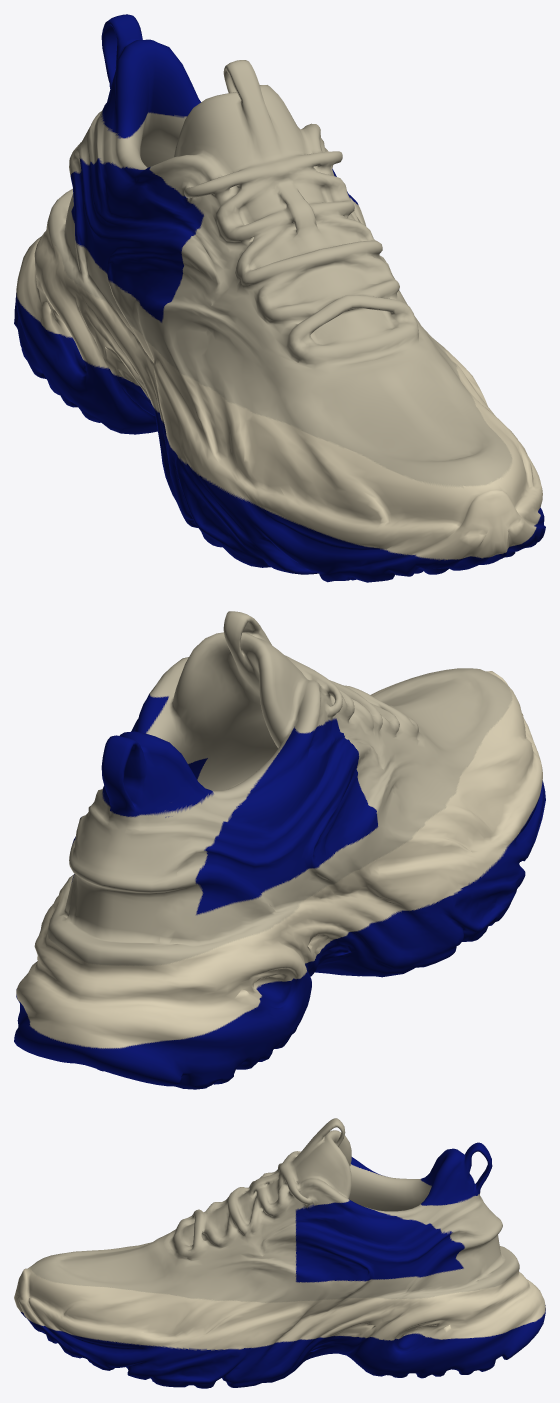
File: sneaker-refined.glb
The picture shows the model from 3 angles, top to bottom: view 1: azimuth 30°, elevation 25°; view 2: azimuth 150°, elevation 25°; view 3: azimuth 270°, elevation 25°; orthographic projection. The views are drawn at different scales.
Visible parts, largest first — view 1: Sneaker | Original Hyper3D geometry; view 2: Sneaker | Original Hyper3D geometry; view 3: Sneaker | Original Hyper3D geometry.
Boxes of the visible parts, <box> form: Sneaker | Original Hyper3D geometry: <box>14,14,545,582</box>; Sneaker | Original Hyper3D geometry: <box>14,611,545,1089</box>; Sneaker | Original Hyper3D geometry: <box>14,1118,545,1388</box>.
Bounding box in the file's own units: 0.9063 × 1.15 × 2.4.
Materials: 3 (3 with a texture image).
